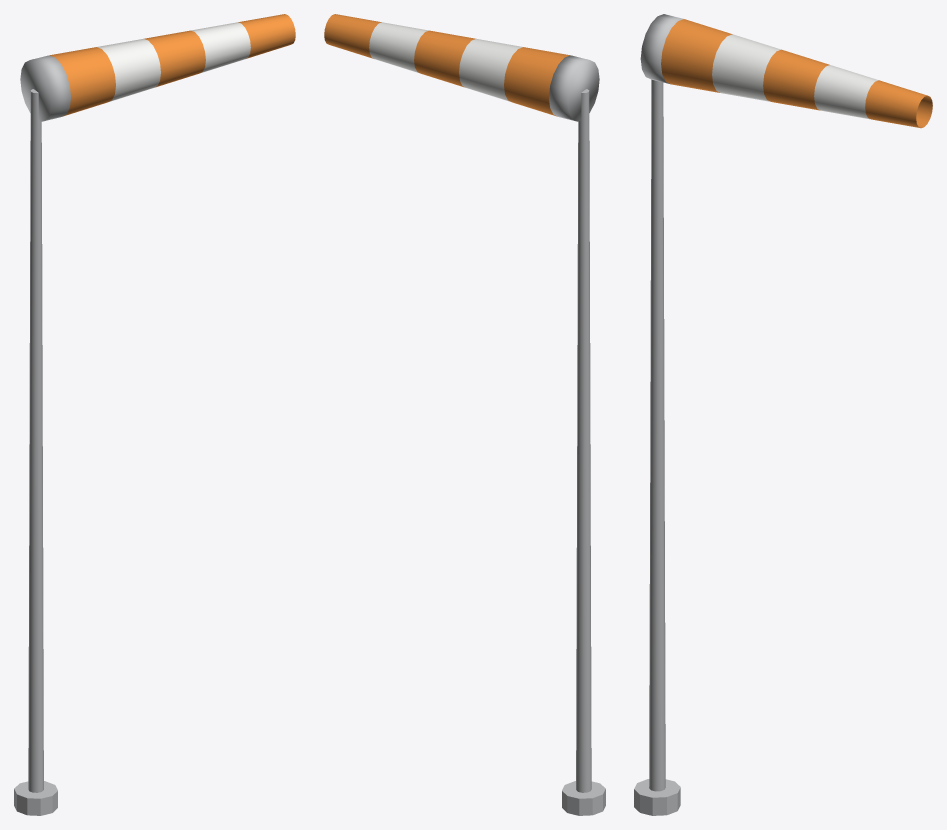
The model's file is windsock.glb.
3 views of the same model, side by side, from view 1: azimuth 30°, elevation 25°; view 2: azimuth 150°, elevation 25°; view 3: azimuth 330°, elevation 25° (orthographic). The views are drawn at different scales.
Visible parts, largest first — view 1: Mast, SockOrange, SockWhite, Ring; view 2: Mast, SockOrange, SockWhite, Ring; view 3: Mast, SockOrange, SockWhite, Ring.
Part boxes in pixels (x1,y1,x2,y2): Mast: (14,89,57,815); SockOrange: (50,14,295,116); SockWhite: (97,22,250,101); Ring: (20,55,70,121); Mast: (562,89,605,815); SockOrange: (324,14,569,116); SockWhite: (369,22,522,101); Ring: (549,55,599,121); Mast: (634,79,680,815); SockOrange: (661,19,932,128); SockWhite: (712,34,878,119); Ring: (640,14,683,84).
Bounding box in the file's own units: 1.98 × 5.2 × 0.4.
